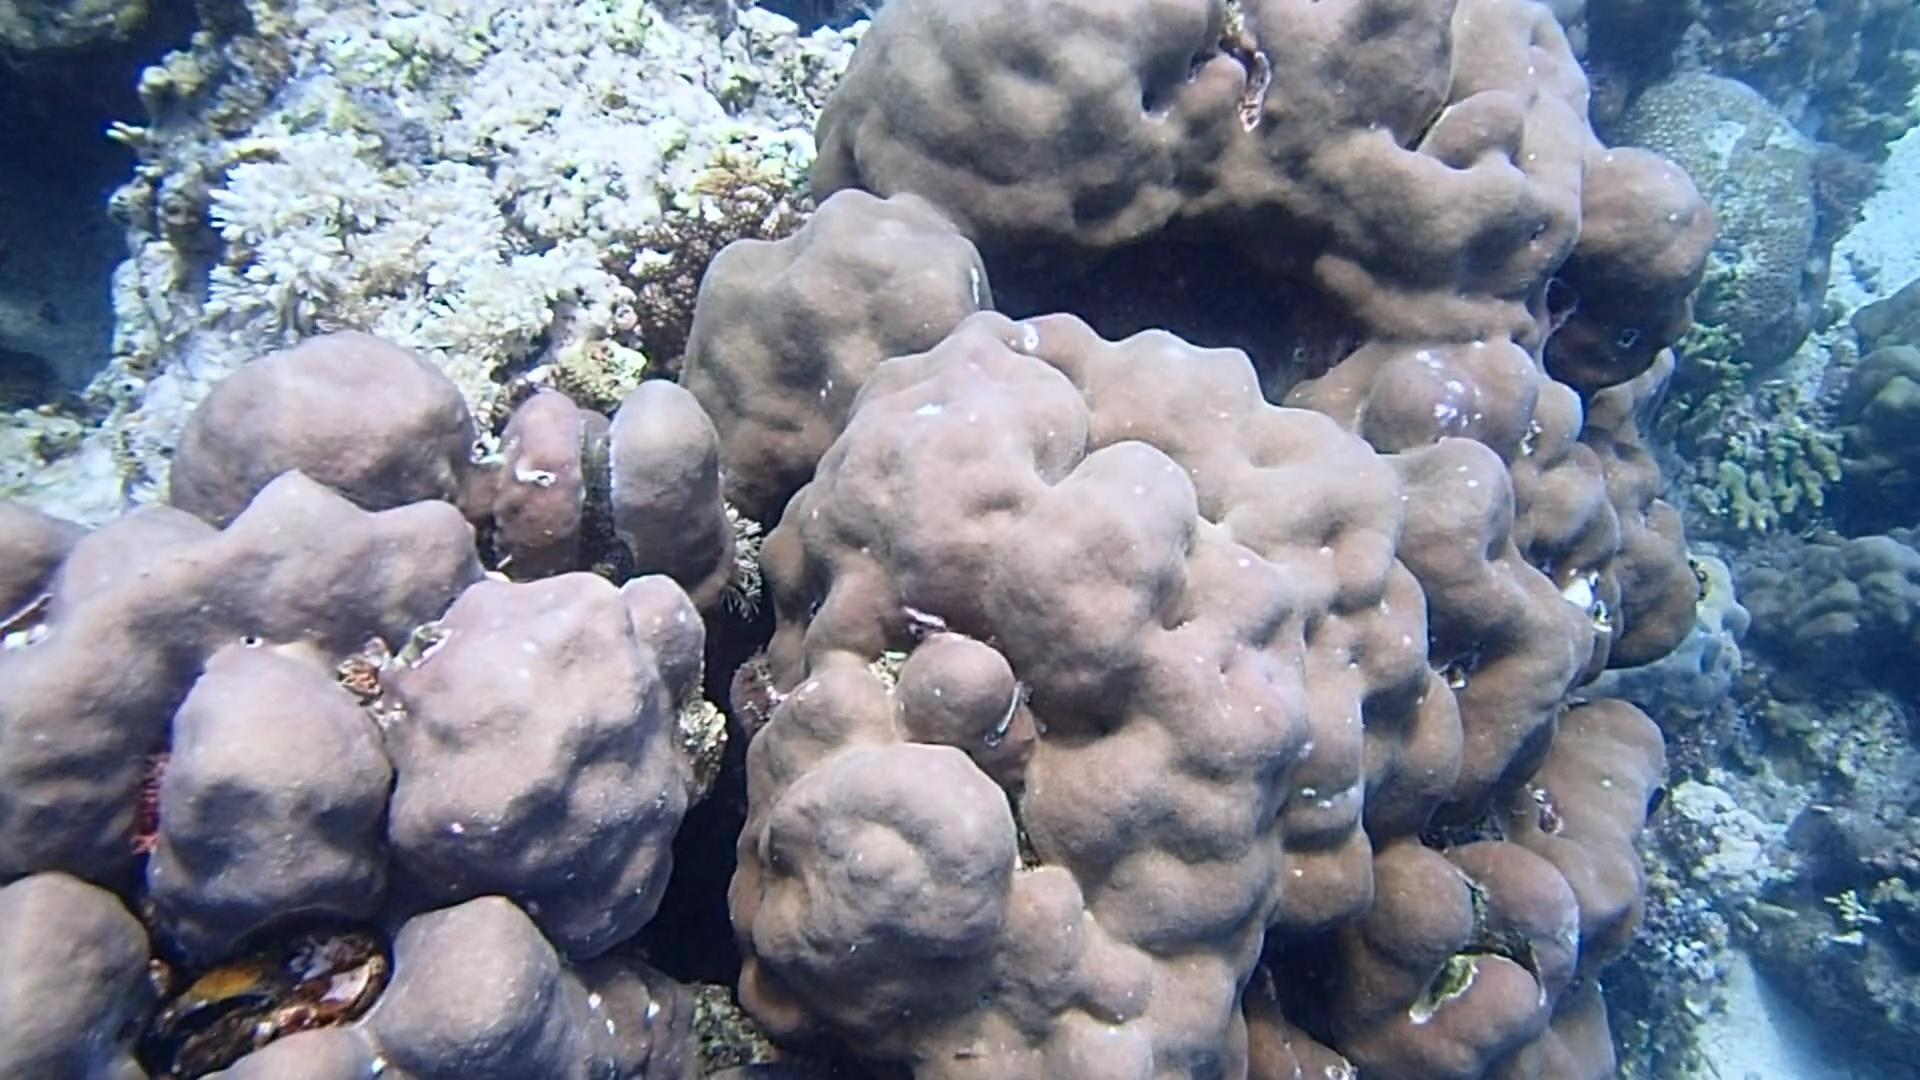Dark Fish: (1639, 771, 1673, 836)
